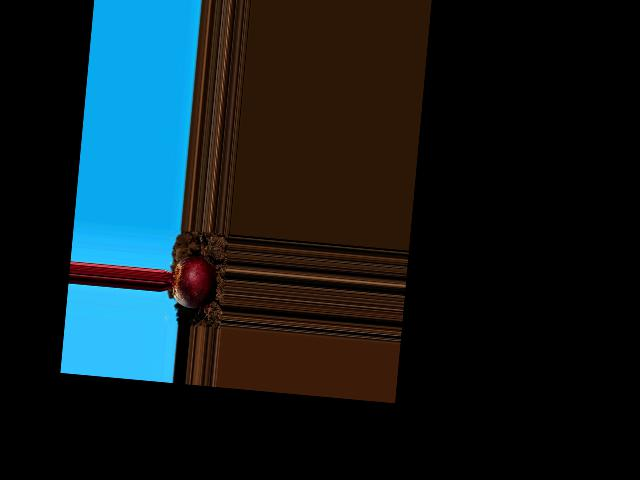beet: (159, 253, 218, 310)
